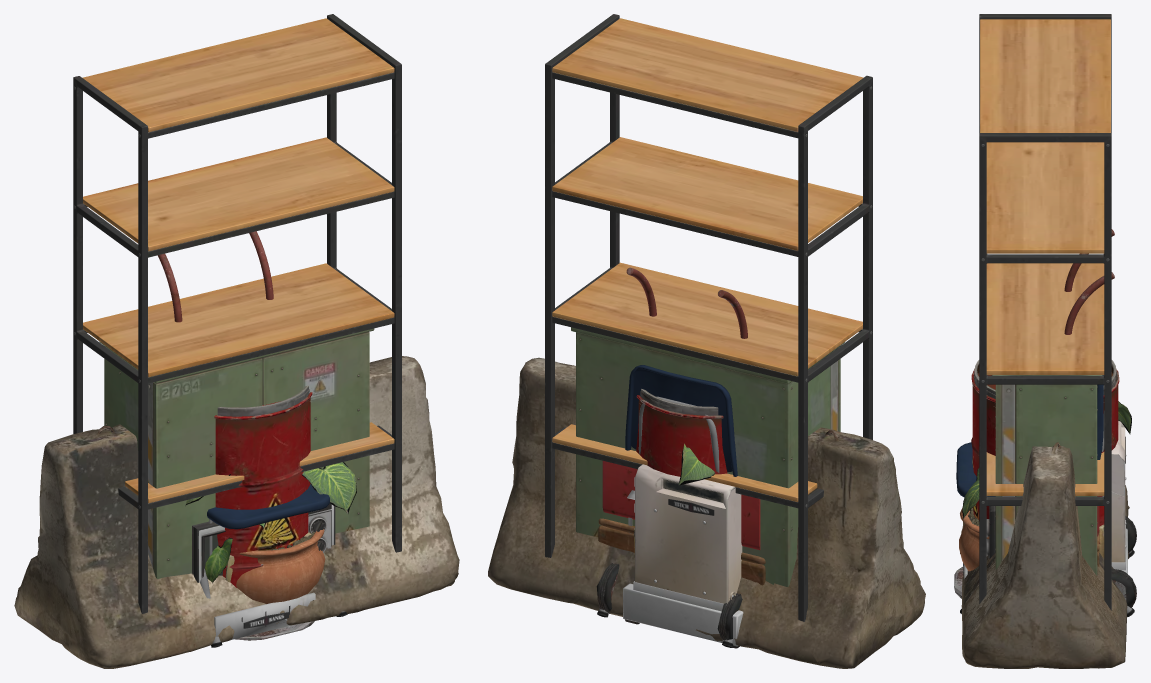
File: props.glb
The picture shows the model from 3 angles, left to right: view 1: azimuth 30°, elevation 25°; view 2: azimuth 150°, elevation 25°; view 3: azimuth 270°, elevation 25°; orthographic projection. The views are drawn at different scales.
Visible parts, largest first — view 1: steel_frame_shelves_01, concrete_road_barrier, utility_box_02, Barrel_01, potted_plant_02_pot, SchoolChair_01, potted_plant_02_leaves, CashRegister_011_drawer, Television_01, hand_truck, metal_trash_can; view 2: steel_frame_shelves_01, concrete_road_barrier, utility_box_02, CashRegister_01_body, SchoolChair_01, Barrel_01, metal_tool_chest_lid, hand_truck, wooden_crate_01, potted_plant_02_leaves; view 3: steel_frame_shelves_01, concrete_road_barrier, utility_box_02, Barrel_01, CashRegister_01_body, hand_truck, SchoolChair_01, potted_plant_02_pot, potted_plant_02_leaves, Television_01.
Part boxes in pixels (<box>): steel_frame_shelves_01: <box>73,14,401,613</box>; concrete_road_barrier: <box>14,356,459,668</box>; utility_box_02: <box>99,328,374,578</box>; Barrel_01: <box>214,392,312,587</box>; potted_plant_02_pot: <box>236,529,325,603</box>; SchoolChair_01: <box>200,484,347,647</box>; potted_plant_02_leaves: <box>185,462,356,583</box>; CashRegister_011_drawer: <box>214,592,315,640</box>; Television_01: <box>192,503,335,582</box>; hand_truck: <box>157,231,314,640</box>; metal_trash_can: <box>217,385,308,416</box>; steel_frame_shelves_01: <box>545,14,872,621</box>; concrete_road_barrier: <box>488,357,925,668</box>; utility_box_02: <box>571,327,844,586</box>; CashRegister_01_body: <box>623,464,743,648</box>; SchoolChair_01: <box>597,365,737,647</box>; Barrel_01: <box>636,395,727,476</box>; metal_tool_chest_lid: <box>602,461,760,550</box>; hand_truck: <box>596,267,747,640</box>; wooden_crate_01: <box>598,525,765,585</box>; potted_plant_02_leaves: <box>678,443,714,485</box>; steel_frame_shelves_01: <box>979,14,1111,610</box>; concrete_road_barrier: <box>961,442,1129,668</box>; utility_box_02: <box>991,375,1102,575</box>; Barrel_01: <box>971,369,1119,543</box>; CashRegister_01_body: <box>1102,421,1127,573</box>; hand_truck: <box>954,229,1136,607</box>; SchoolChair_01: <box>956,375,1134,617</box>; potted_plant_02_pot: <box>959,508,989,571</box>; potted_plant_02_leaves: <box>962,401,1131,518</box>; Television_01: <box>986,506,995,558</box>.
Bounding box in the file's own units: 1.54 × 2.14 × 0.6921.
33 materials, 33 textured.
